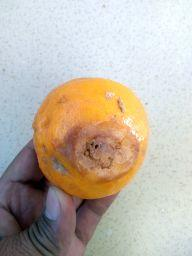Unripe: (33, 76, 149, 200)
